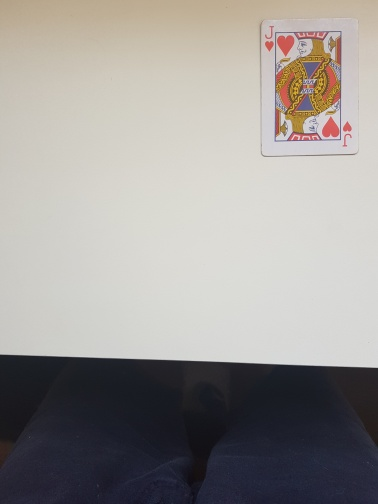jack: (259, 17, 360, 157)
